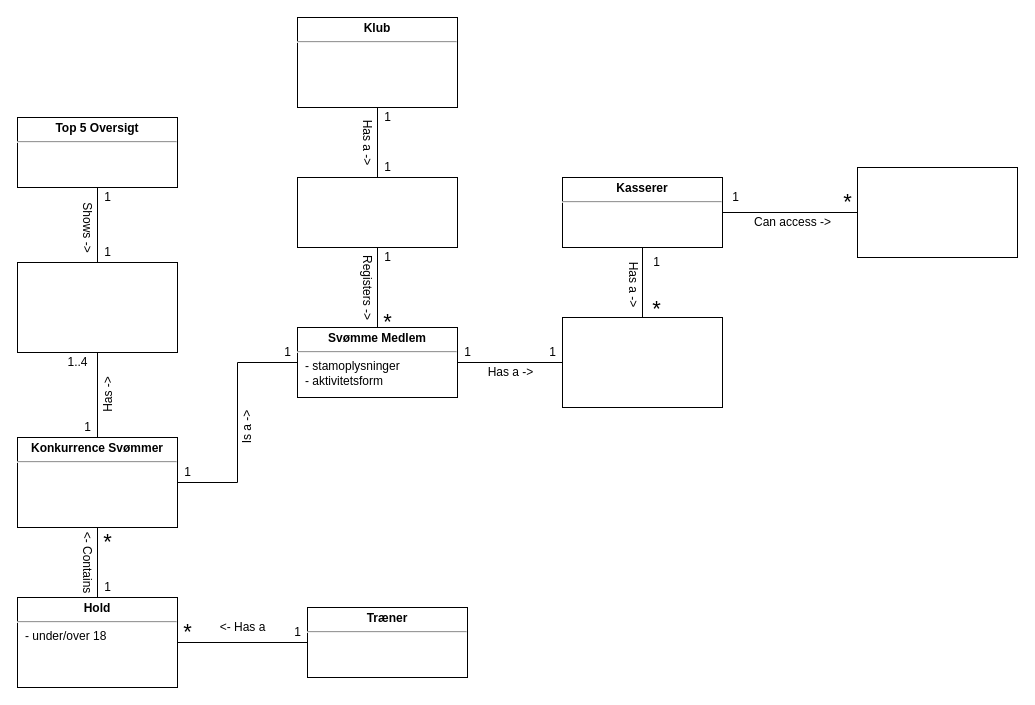
Image size: 1035x705. Some labels were removed from this diagram. The centre of each missing label's shape, as x and y in pixels:
"Discipliner - træningsresultat - dato" belongs at [97,307].
"Formand" belongs at [377,212].
"Kontingent - betaling - forhold (rabat, takst osv.)" belongs at [642,362].
"Oversigt - medlemmer restance" belongs at [937,212].
